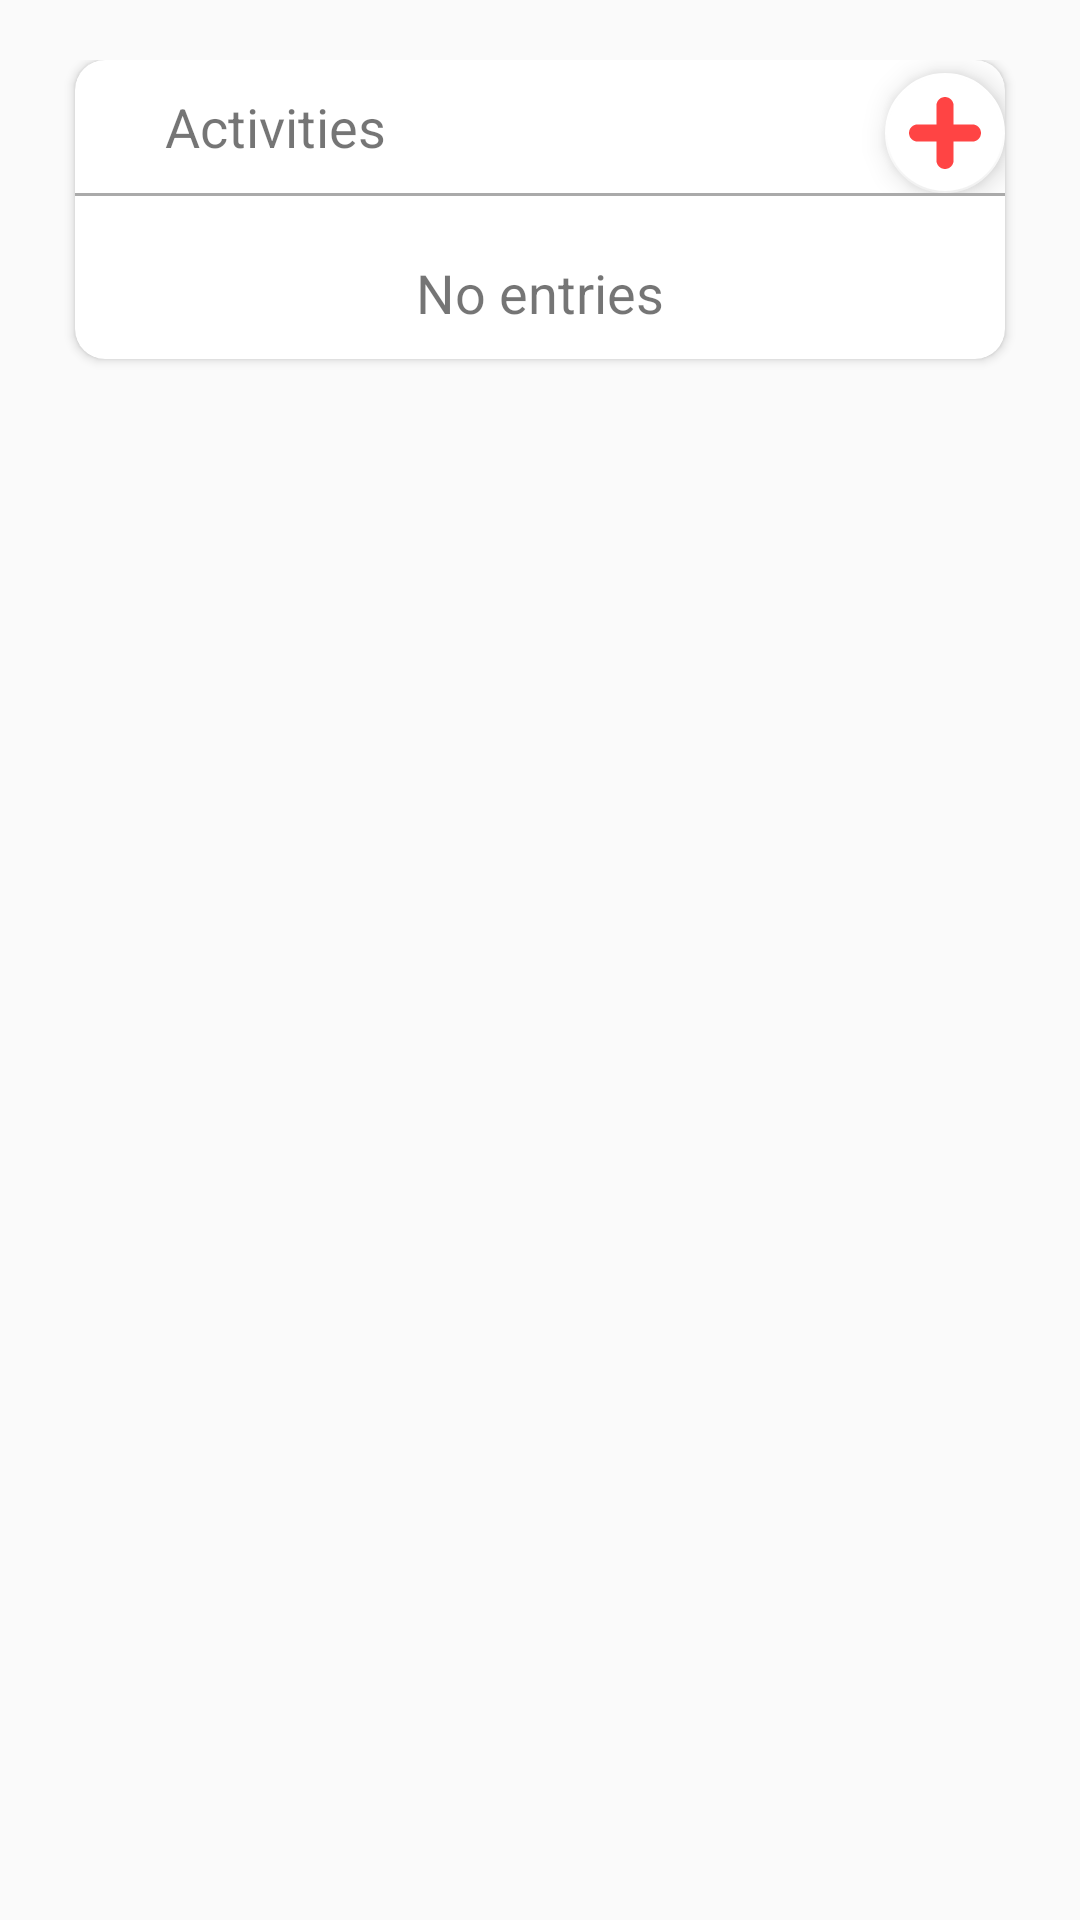

Screen size 1080 x 1920. Icon name, then its box in pixels as (x1, y1, x2, y2):
Add activity: (909, 96, 1002, 191)
